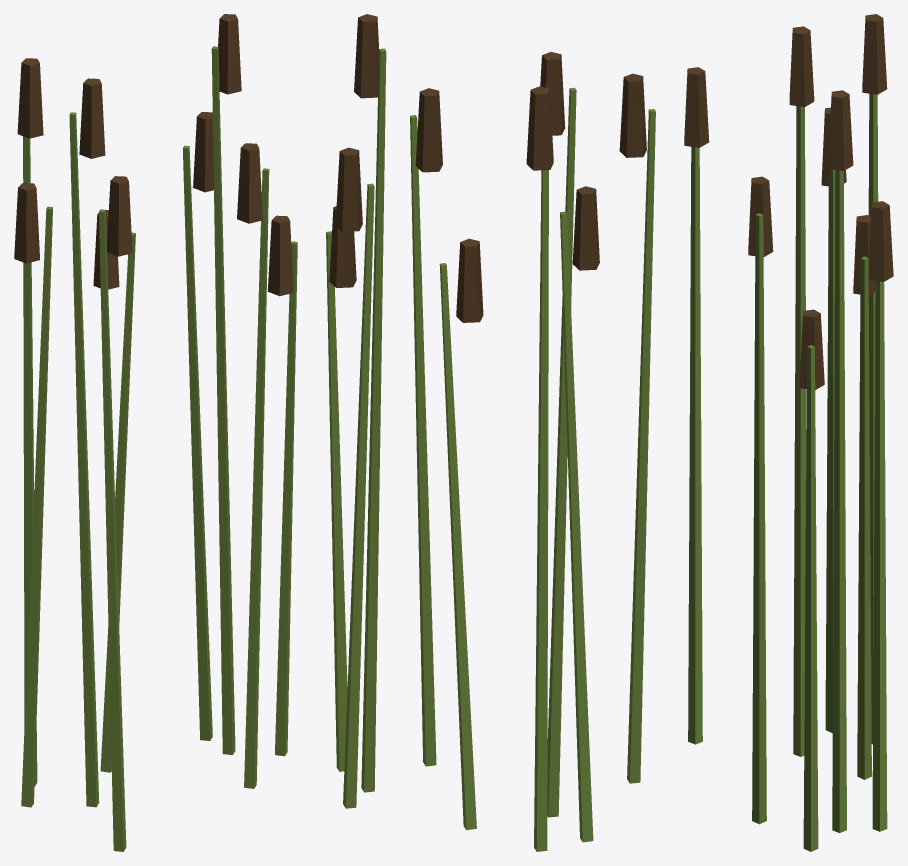
Rendered from Reed.fbx.
The picture shows the model from 3 angles, left to right: view 1: azimuth 30°, elevation 25°; view 2: azimuth 150°, elevation 25°; view 3: azimuth 270°, elevation 25°; orthographic projection. The views are drawn at different scales.
Visible parts, largest first — view 1: Reed; view 2: Reed; view 3: Reed.
Boxes of the visible parts, x1,y1,x2,y2 form: Reed: [14, 14, 297, 851]; Reed: [326, 14, 655, 851]; Reed: [684, 14, 893, 851].
Size of the model in its own units: 0.6363 by 1.65 by 0.4255.
